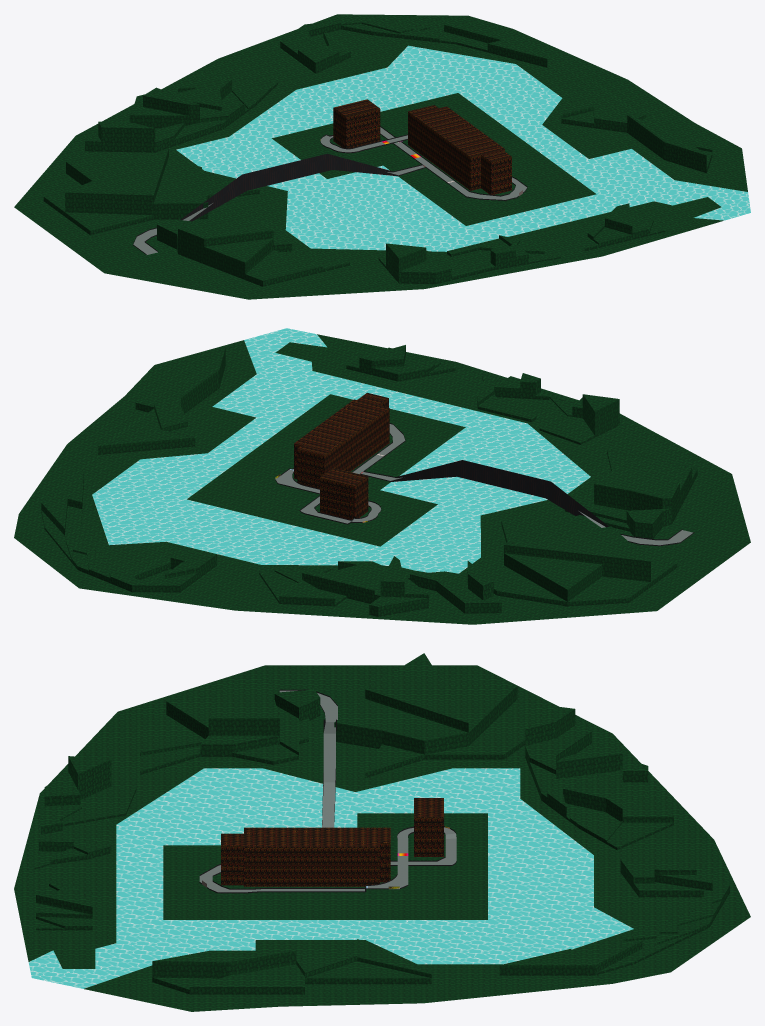
3 renders of one model, top to bottom at view 1: azimuth 30°, elevation 25°; view 2: azimuth 150°, elevation 25°; view 3: azimuth 270°, elevation 25°, orthographic. The views are drawn at different scales.
Parts seen in each view (by area): view 1: BoringHwy-SKP--Grass, BoringHwy-SKP--Water, BoringHwy-SKP--_Buildings, BoringHwy-SKP--Fence, BoringHwy-SKP--Road; view 2: BoringHwy-SKP--Grass, BoringHwy-SKP--Water, BoringHwy-SKP--_Buildings, BoringHwy-SKP--Fence, BoringHwy-SKP--Road; view 3: BoringHwy-SKP--Grass, BoringHwy-SKP--Water, BoringHwy-SKP--_Buildings, BoringHwy-SKP--Road, BoringHwy-SKP--Fence.
Boxes of the visible parts, x1=… form: BoringHwy-SKP--Grass: x1=14, y1=14, x2=747, y2=299; BoringHwy-SKP--Water: x1=176, y1=45, x2=750, y2=251; BoringHwy-SKP--_Buildings: x1=333, y1=99, x2=511, y2=194; BoringHwy-SKP--Fence: x1=133, y1=126, x2=527, y2=254; BoringHwy-SKP--Road: x1=133, y1=127, x2=526, y2=254; BoringHwy-SKP--Grass: x1=14, y1=334, x2=750, y2=624; BoringHwy-SKP--Water: x1=92, y1=328, x2=590, y2=573; BoringHwy-SKP--_Buildings: x1=294, y1=392, x2=389, y2=519; BoringHwy-SKP--Fence: x1=275, y1=423, x2=694, y2=546; BoringHwy-SKP--Road: x1=275, y1=424, x2=692, y2=545; BoringHwy-SKP--Grass: x1=14, y1=653, x2=750, y2=1011; BoringHwy-SKP--Water: x1=28, y1=768, x2=633, y2=988; BoringHwy-SKP--_Buildings: x1=221, y1=798, x2=443, y2=886; BoringHwy-SKP--Road: x1=199, y1=690, x2=456, y2=892; BoringHwy-SKP--Fence: x1=199, y1=689, x2=456, y2=893.
Size of the model in its own units: 287750 by 16284 by 258480.
Materials: 18 (18 with a texture image).
